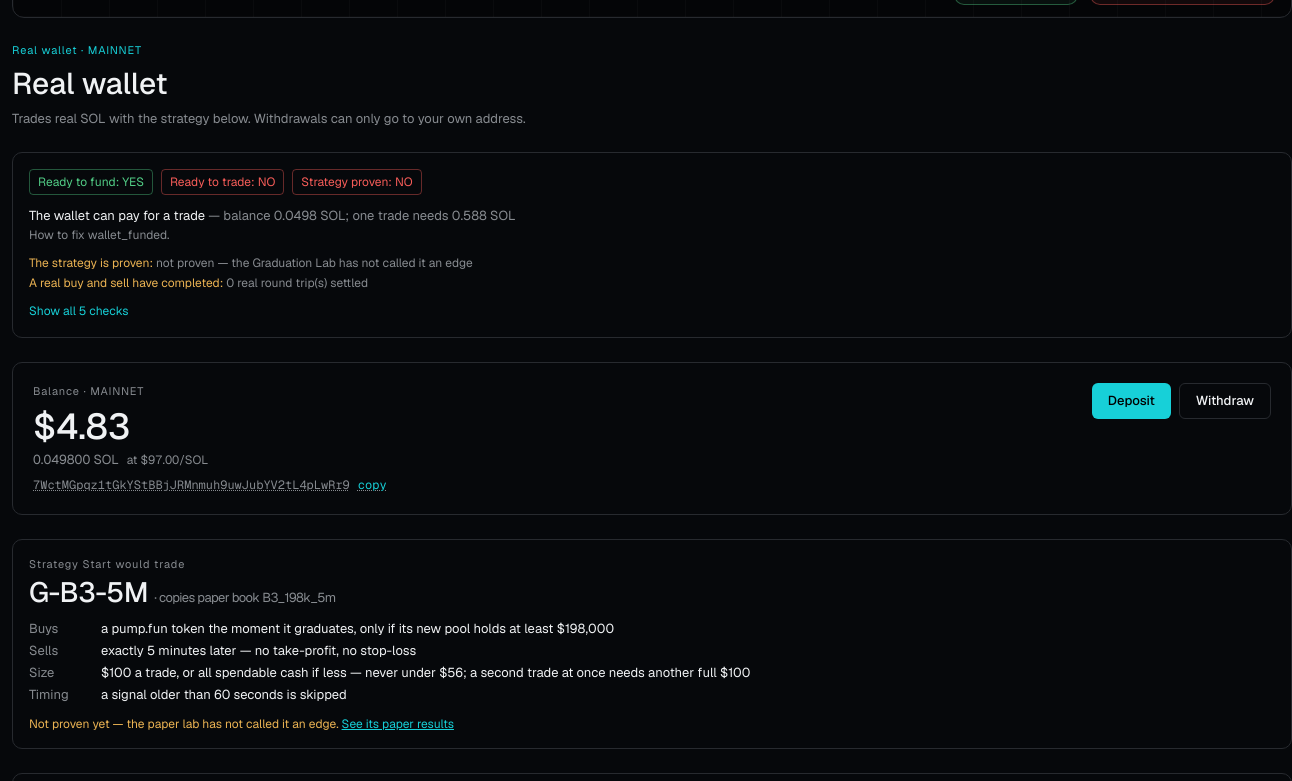
Test: RealWalletPage withdrawal › arms first and says nothing has been sent
The image size is (1292, 781).
(page scrolled)
Expected: the button "7WctMGpqz1tGkYStBBjJRMnmuh9uwJubYV2tL4pLwRr9" is shown, [33,476,387,492]
Click the button "Withdraw" at (1225, 400), box [1179,382,1271,418]
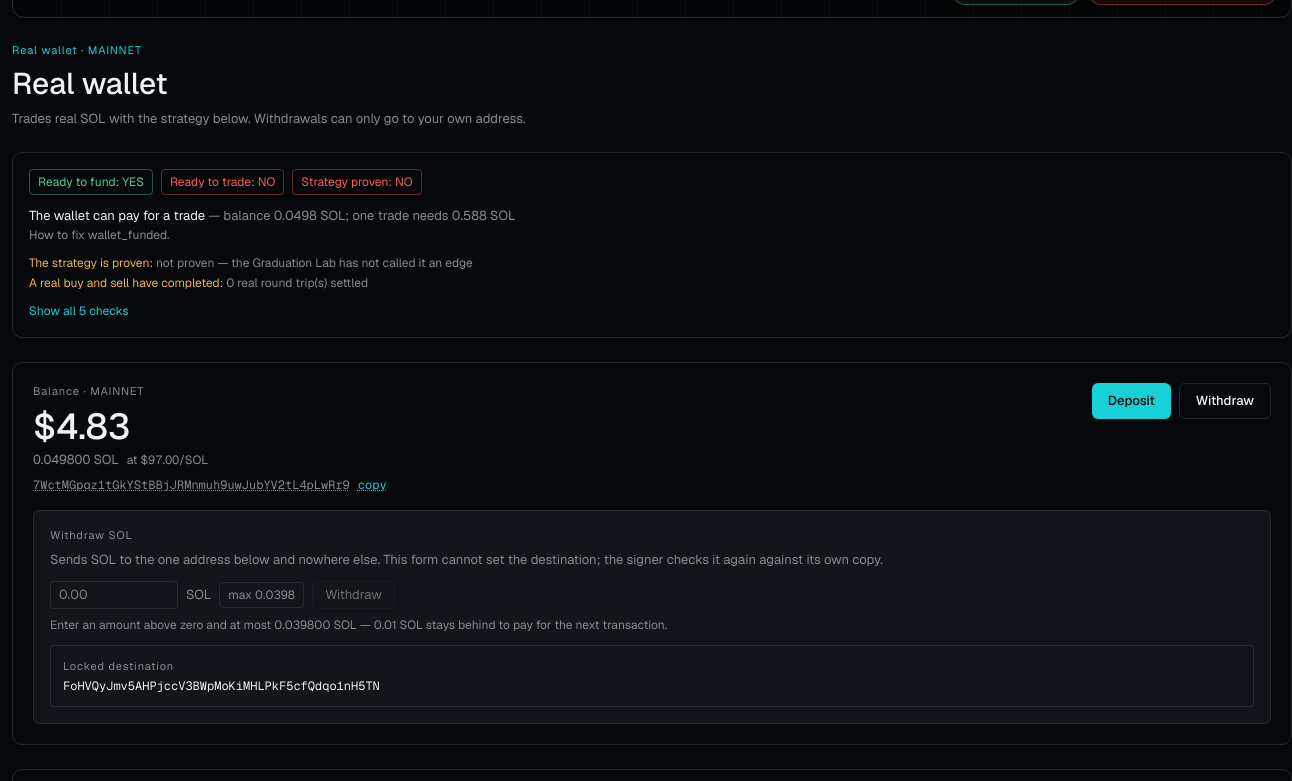
Type "0.001" into the field with placeholder "0.00" at (114, 595), box [50,581,178,609]
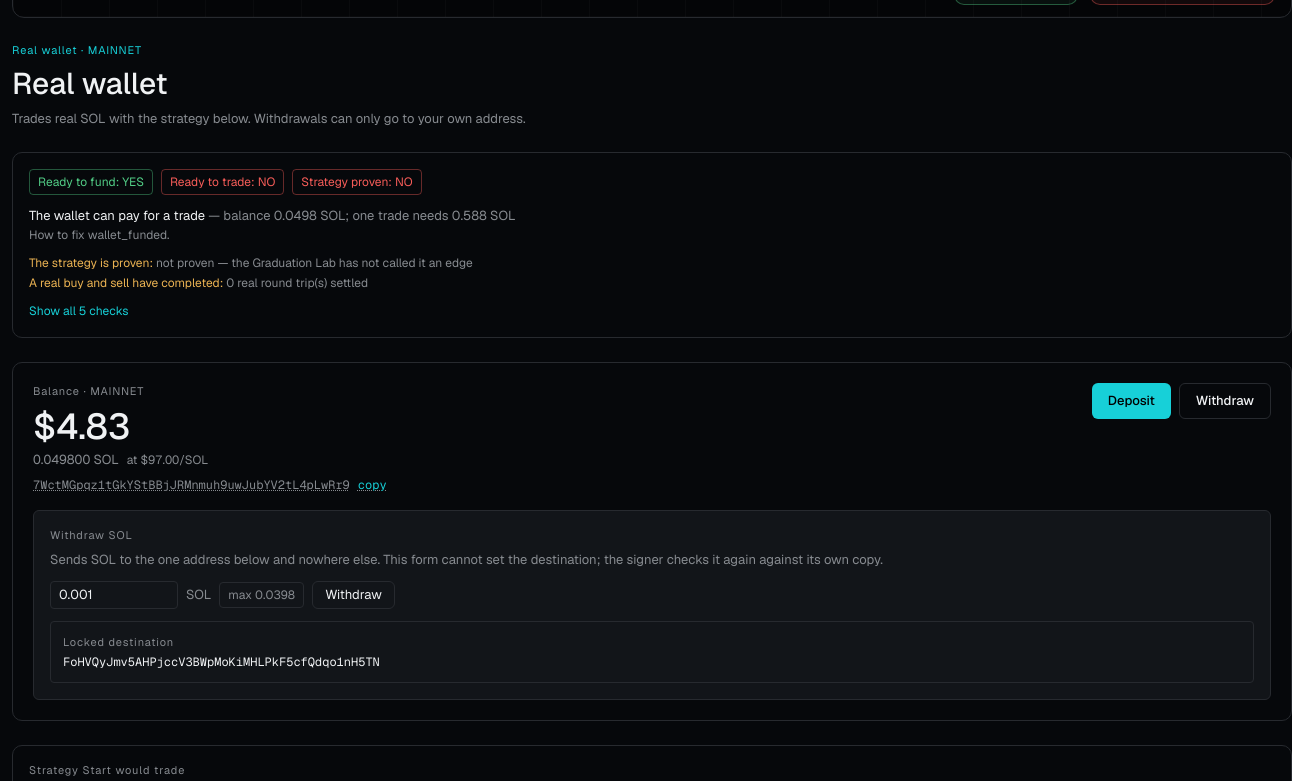
Click the button "Withdraw" below "Withdraw SOL" at (353, 595), box [312,581,395,609]
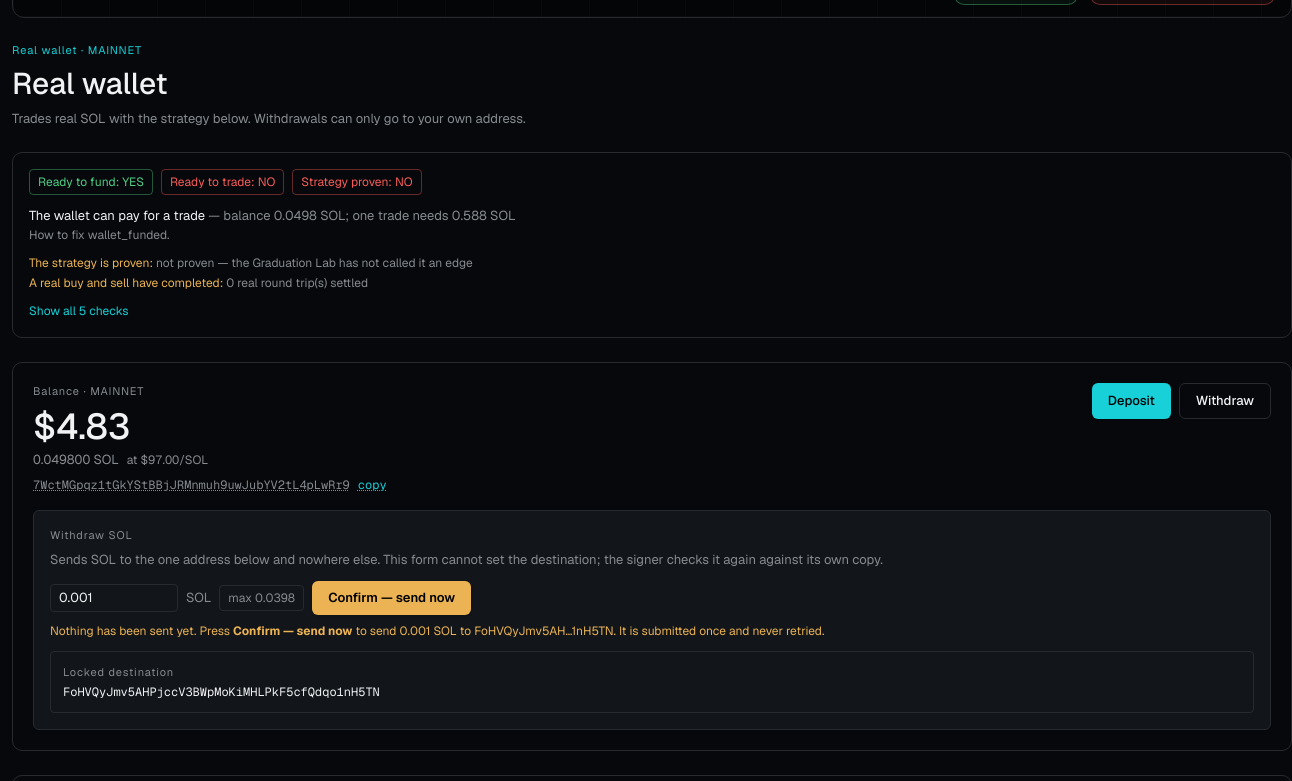
Now the text "Withdraw SOL" shows "Nothing has been sent yet", box [50,623,233,639]
Now the button "Confirm — send now" is shown, box [312,581,471,615]
